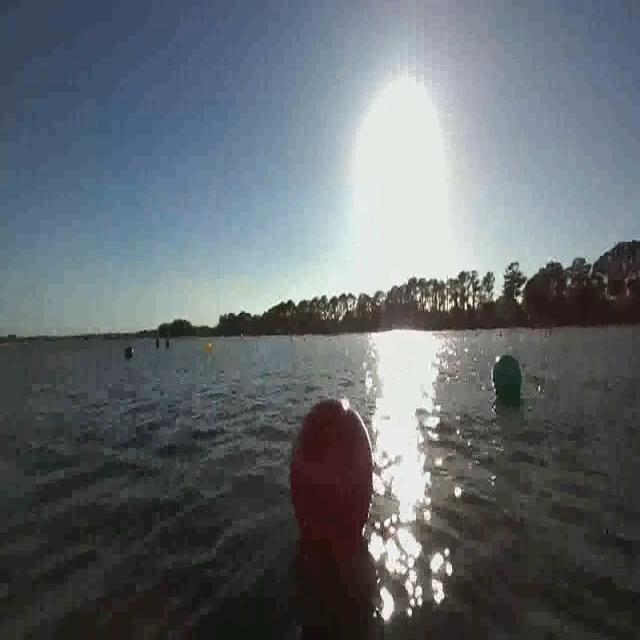black-buoy: (124, 344, 136, 361)
green-buoy: (493, 354, 525, 402)
red-buoy: (292, 399, 378, 550)
yellow-buoy: (204, 341, 214, 355)
